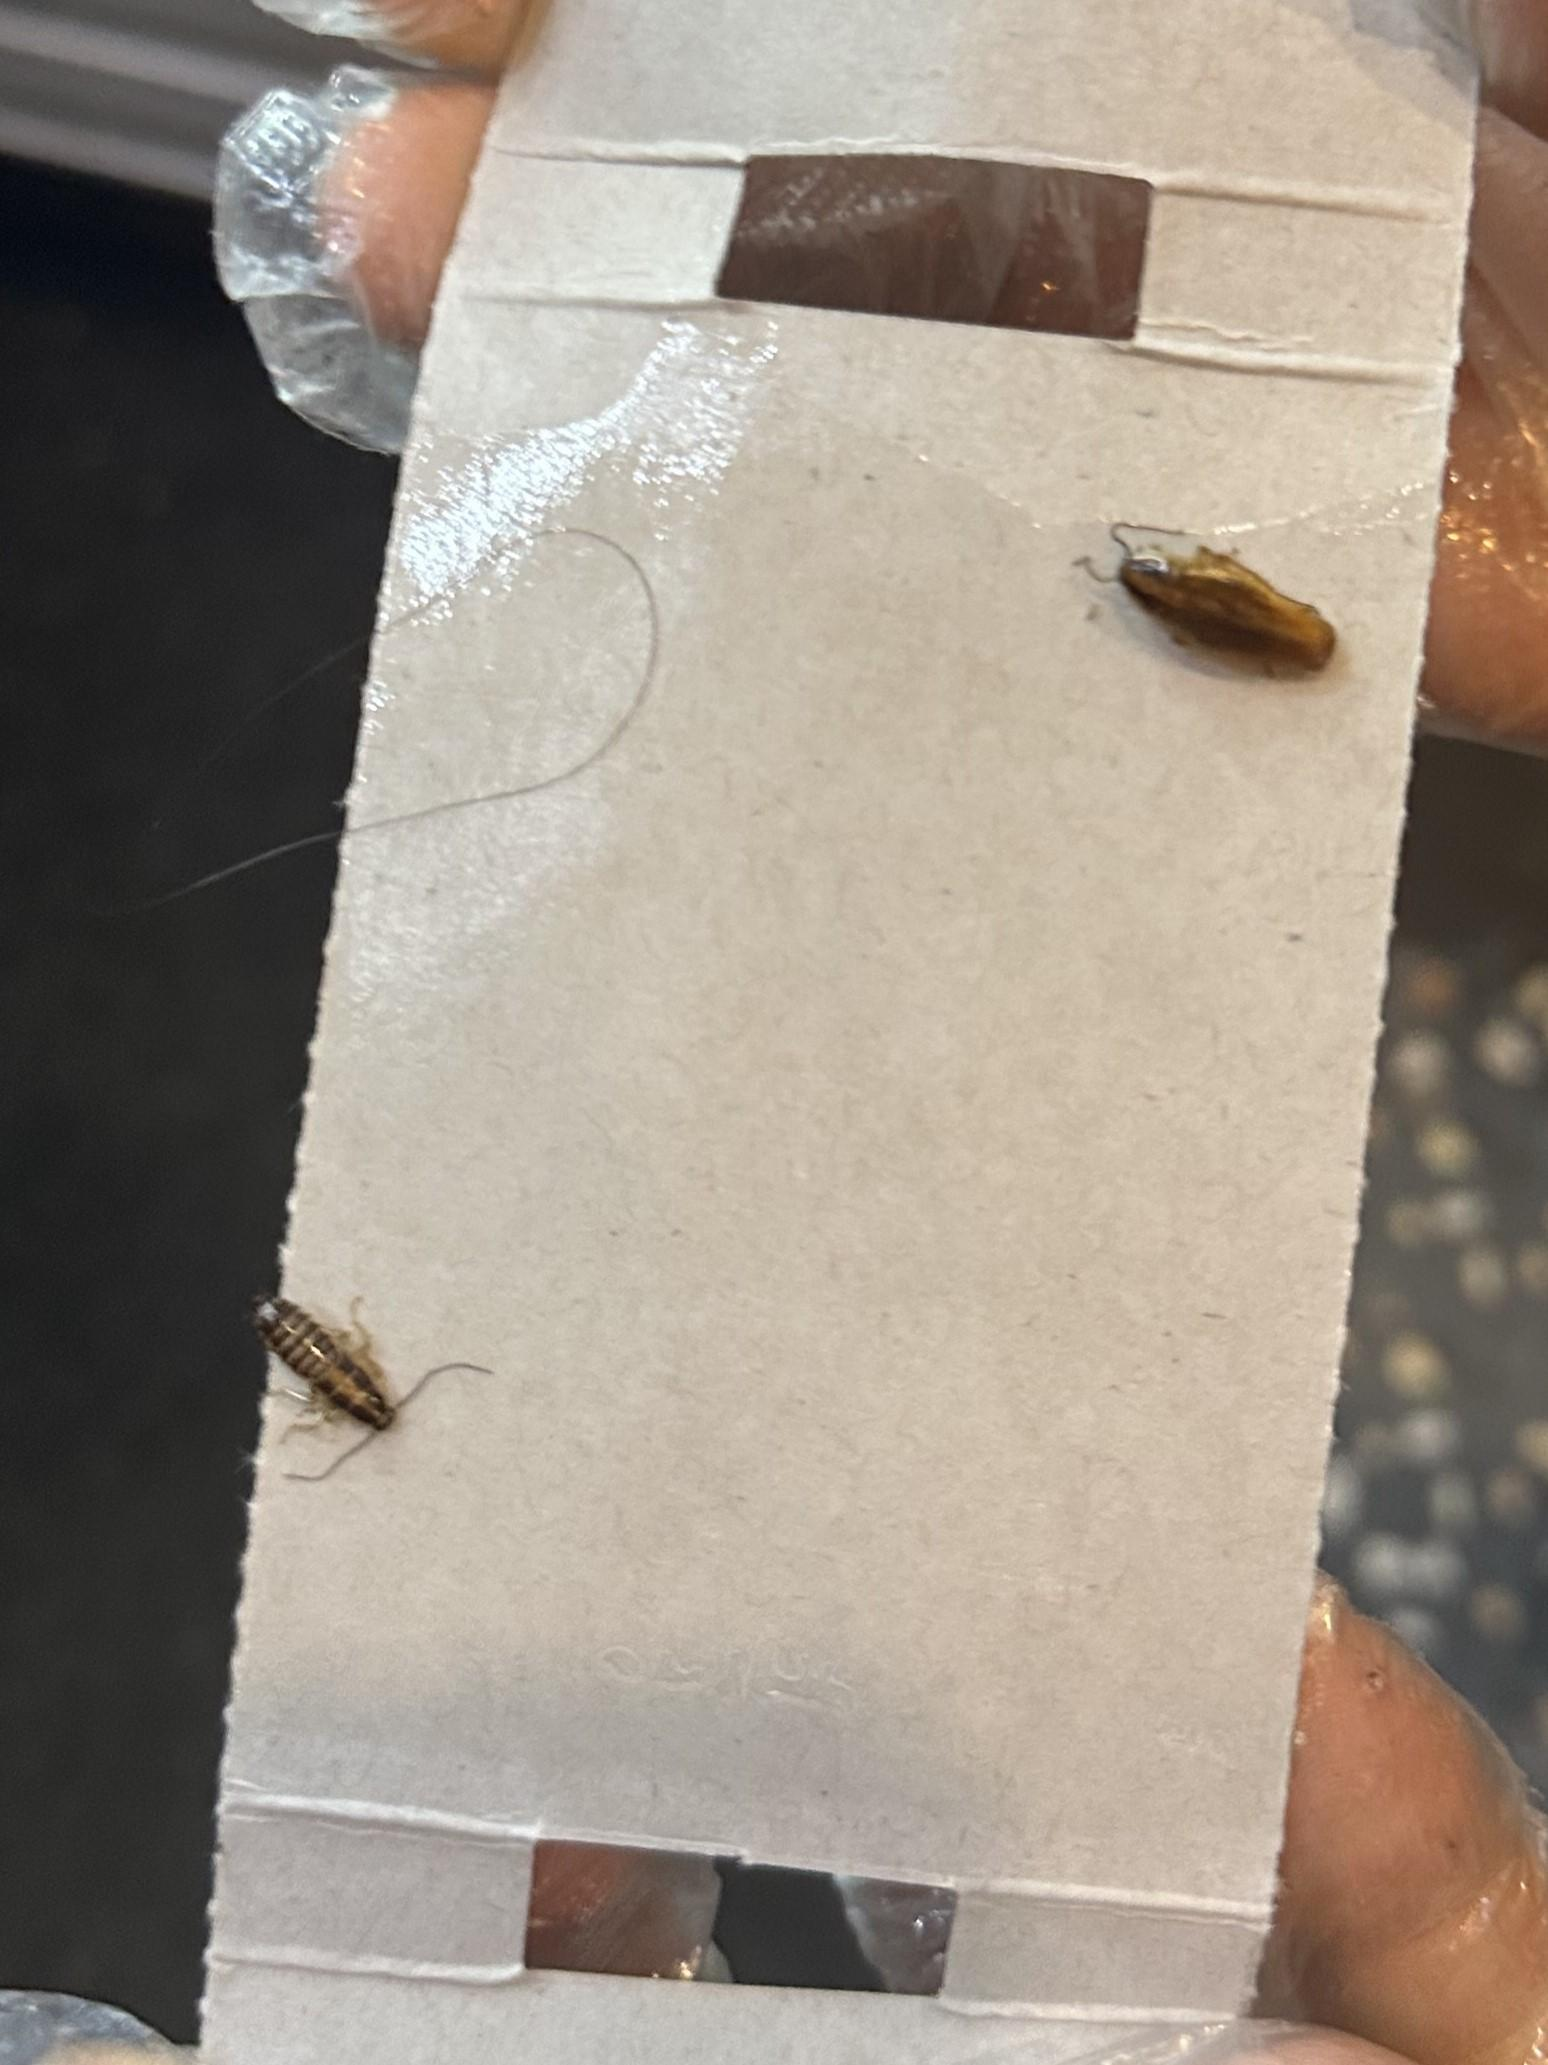cockroach: (971, 446, 1475, 767), (159, 1197, 502, 1600)
